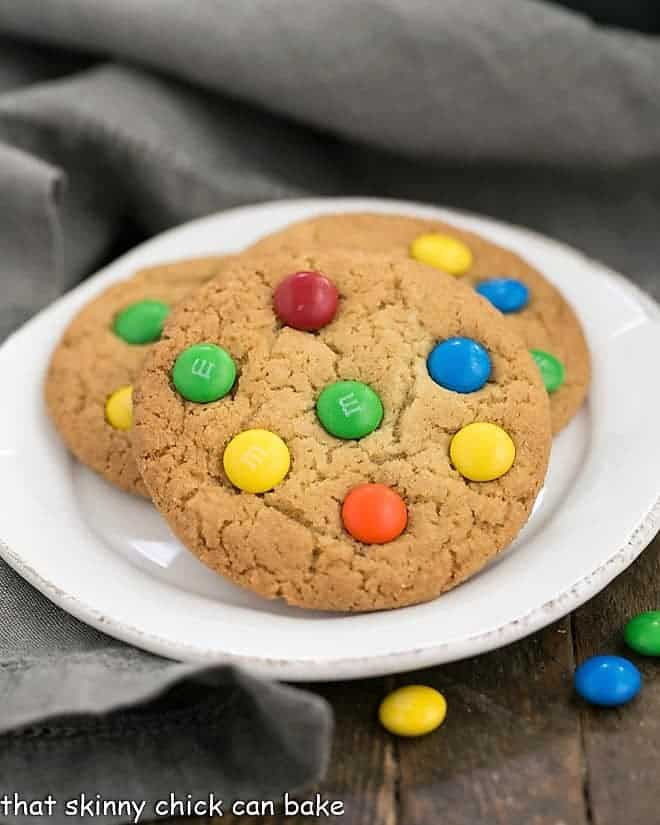mm: (224, 428, 292, 493), (315, 378, 384, 440), (273, 270, 339, 333), (340, 482, 409, 542), (449, 420, 516, 481), (173, 340, 237, 402), (426, 334, 492, 394), (114, 296, 173, 345), (411, 230, 472, 274), (476, 275, 528, 314), (522, 348, 564, 394), (105, 384, 141, 430)
